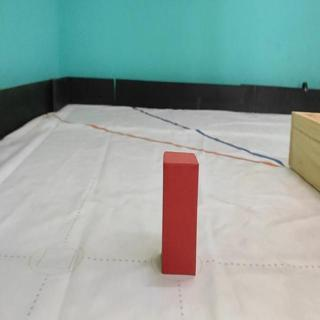redbox: (164, 151, 197, 275)
